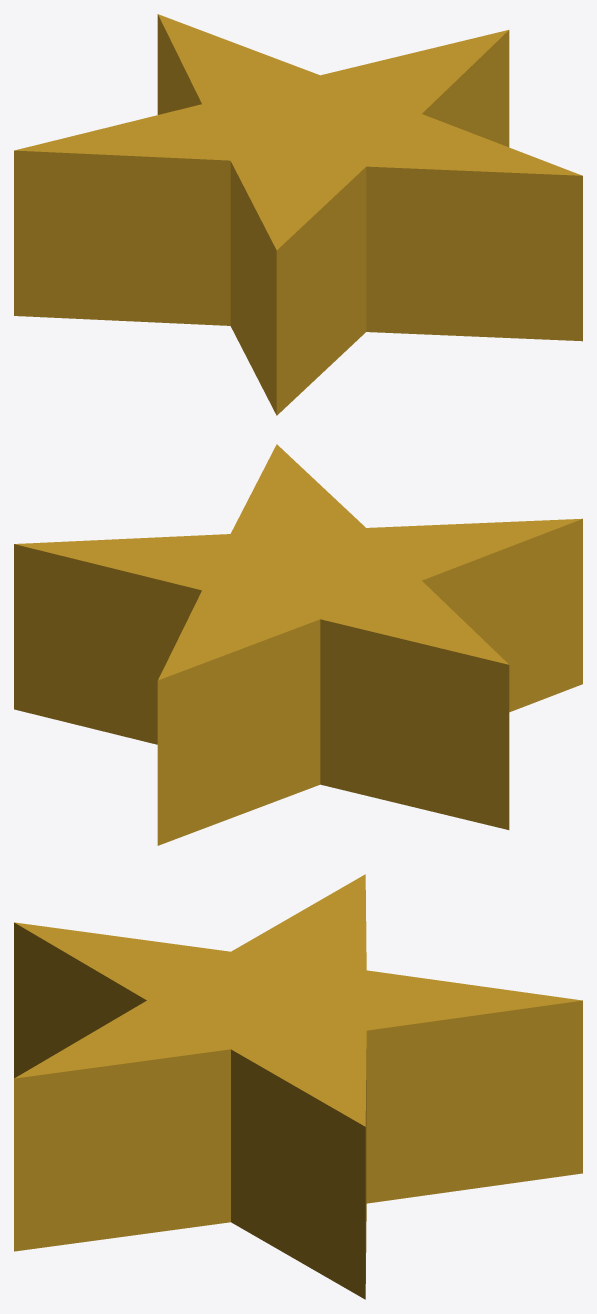
File: star.fbx
The picture shows the model from 3 angles, top to bottom: view 1: azimuth 30°, elevation 25°; view 2: azimuth 150°, elevation 25°; view 3: azimuth 270°, elevation 25°; orthographic projection. The views are drawn at different scales.
Visible parts, largest first — view 1: Circle; view 2: Circle; view 3: Circle.
Boxes of the visible parts, left/top/right/bottom form: Circle: left=14, top=14, right=582, bottom=415; Circle: left=14, top=444, right=582, bottom=845; Circle: left=14, top=874, right=582, bottom=1299.
Size of the model in its own units: 190 by 60.67 by 181.
1 material, 1 textured.
